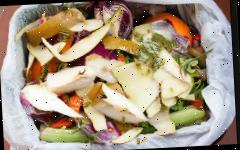organic: (110, 56, 168, 110), (90, 78, 146, 126), (22, 14, 85, 45), (44, 66, 100, 96)
